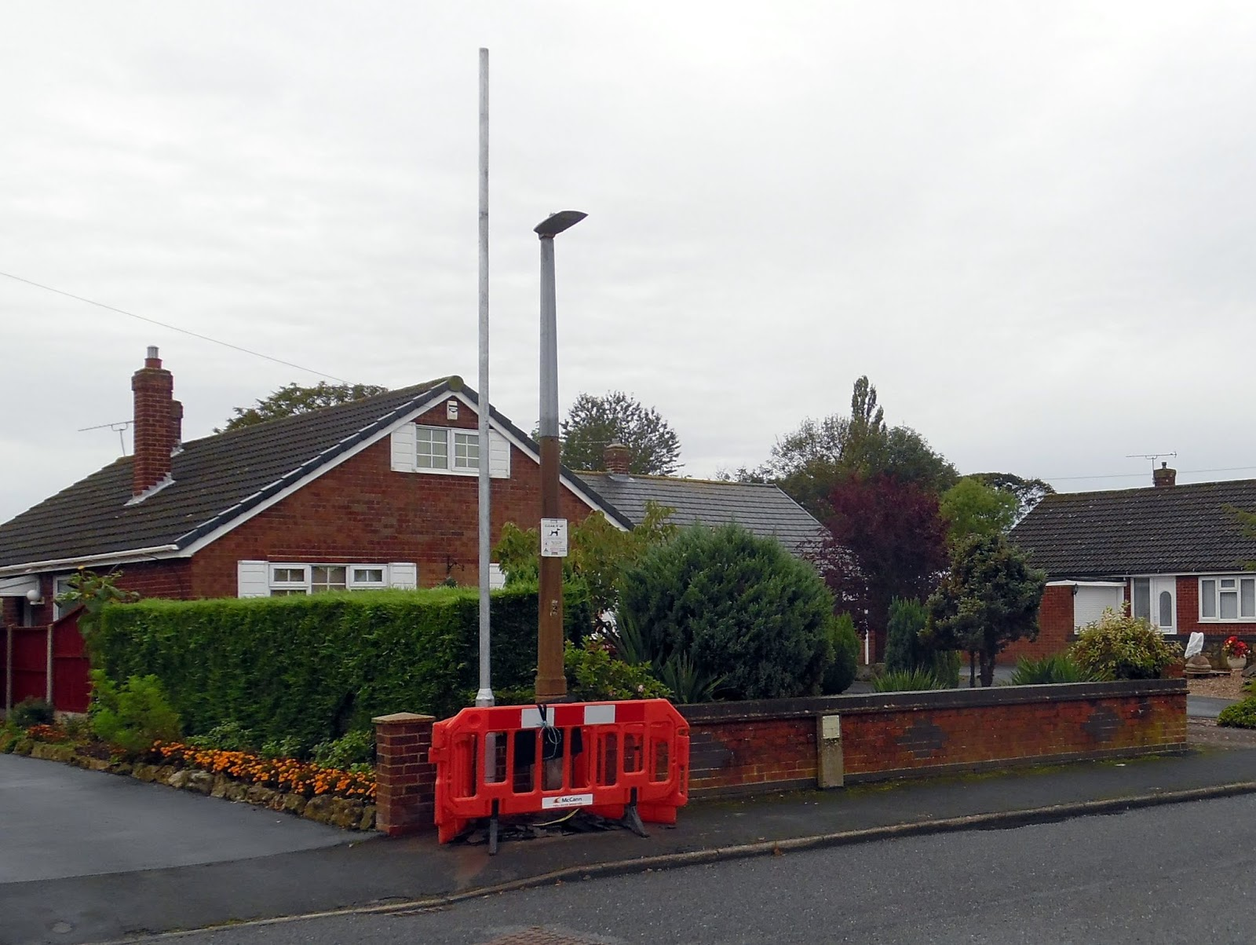light_pole: (527, 195, 577, 716), (471, 42, 498, 705)
